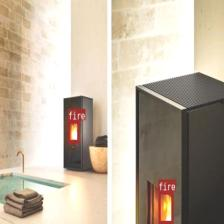fire: (158, 191, 173, 223), (68, 120, 79, 142)
